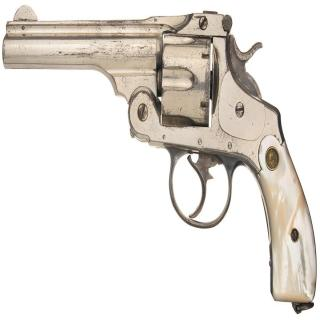gun: (0, 2, 315, 312)
